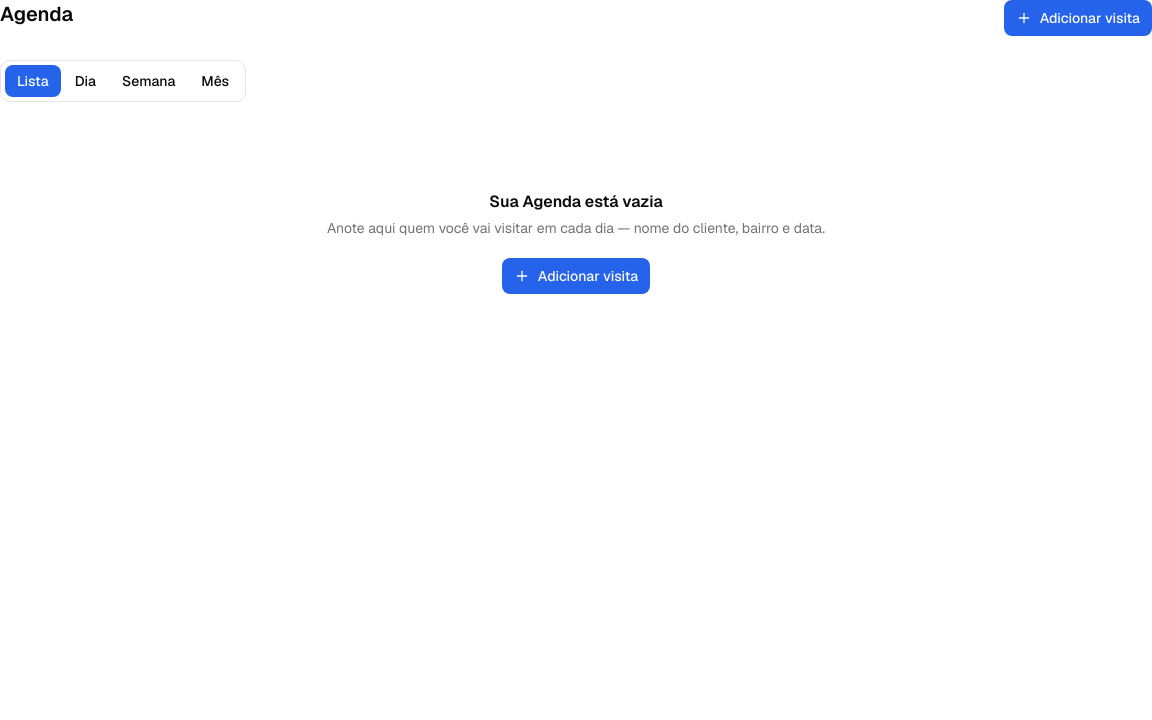
Agenda2List › vazio-vendedor (D-10): leitura vazia mostra o estado vazio com botão Adicionar visita
Expected: the text "Sua Agenda está vazia" is shown, left=489, top=190, right=663, bottom=214
Expected: the text "Anote aqui quem você vai visitar em cada dia — nome do cliente, bairro e data." is shown, left=327, top=218, right=825, bottom=238
Click the button "Adicionar visita" below "Sua Agenda está vazia". click: (576, 276)
box: left=502, top=258, right=650, bottom=294
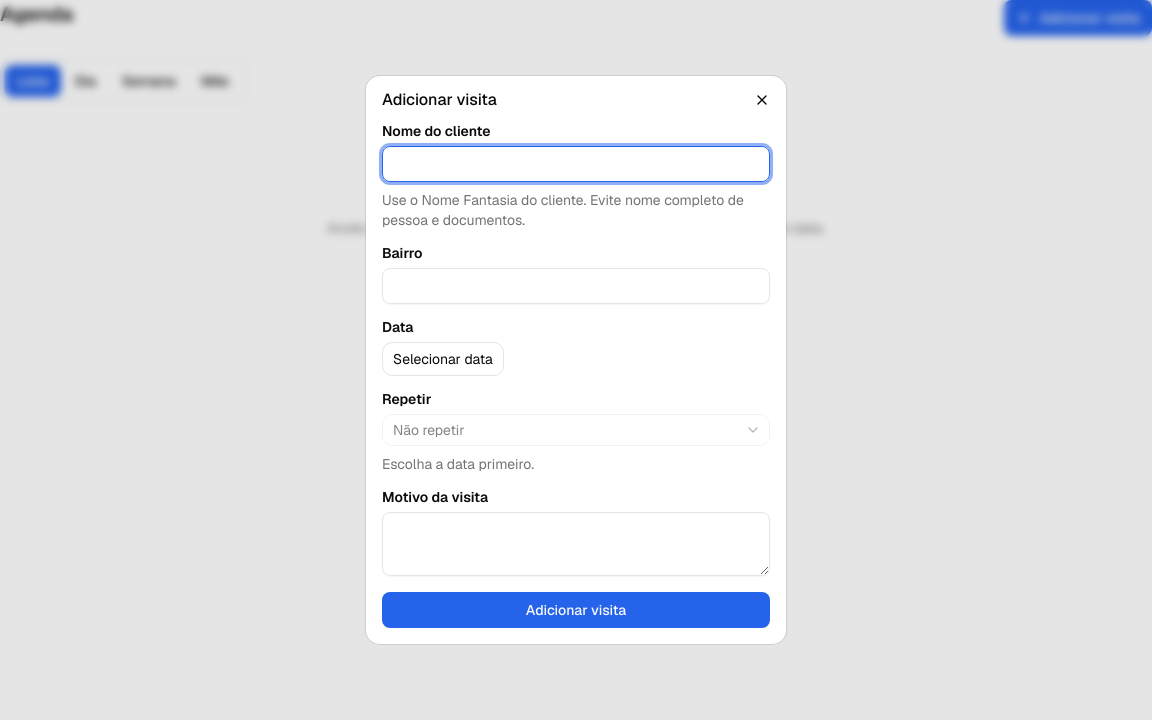
Result: the field labelled "Nome do cliente" is shown at left=382, top=146, right=770, bottom=182
